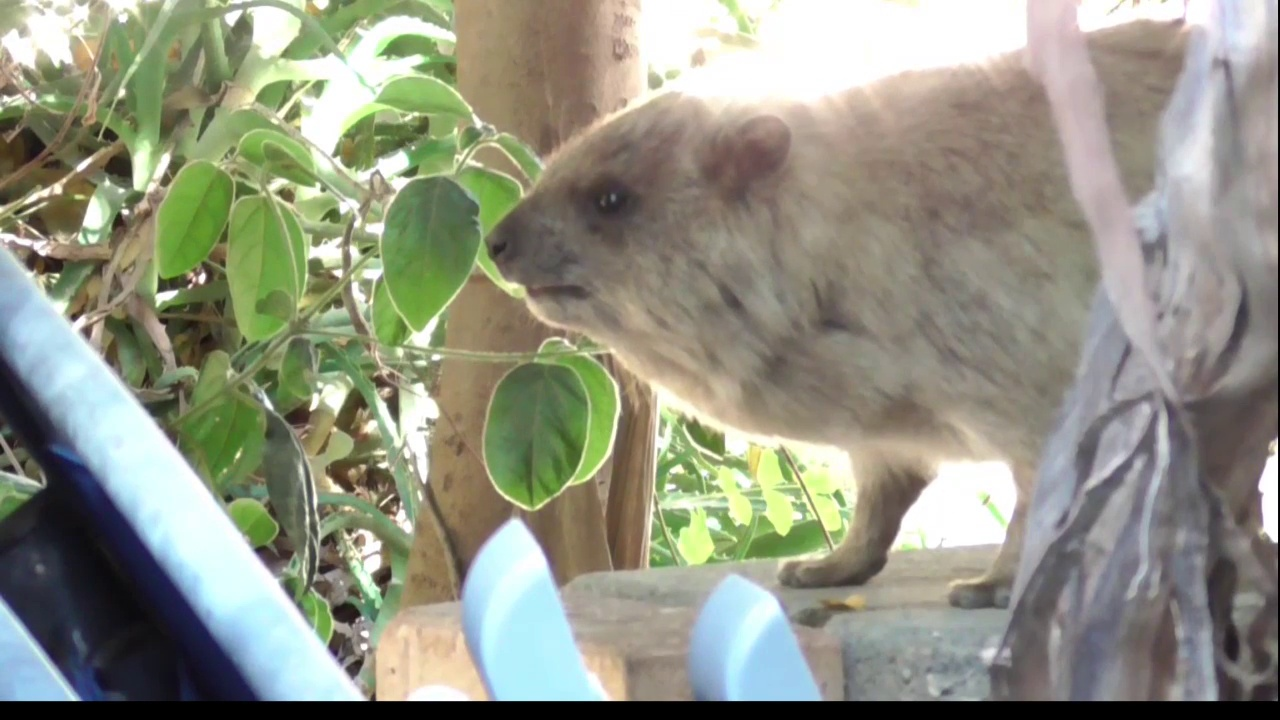Rock Hyrex: (481, 21, 1280, 613)
